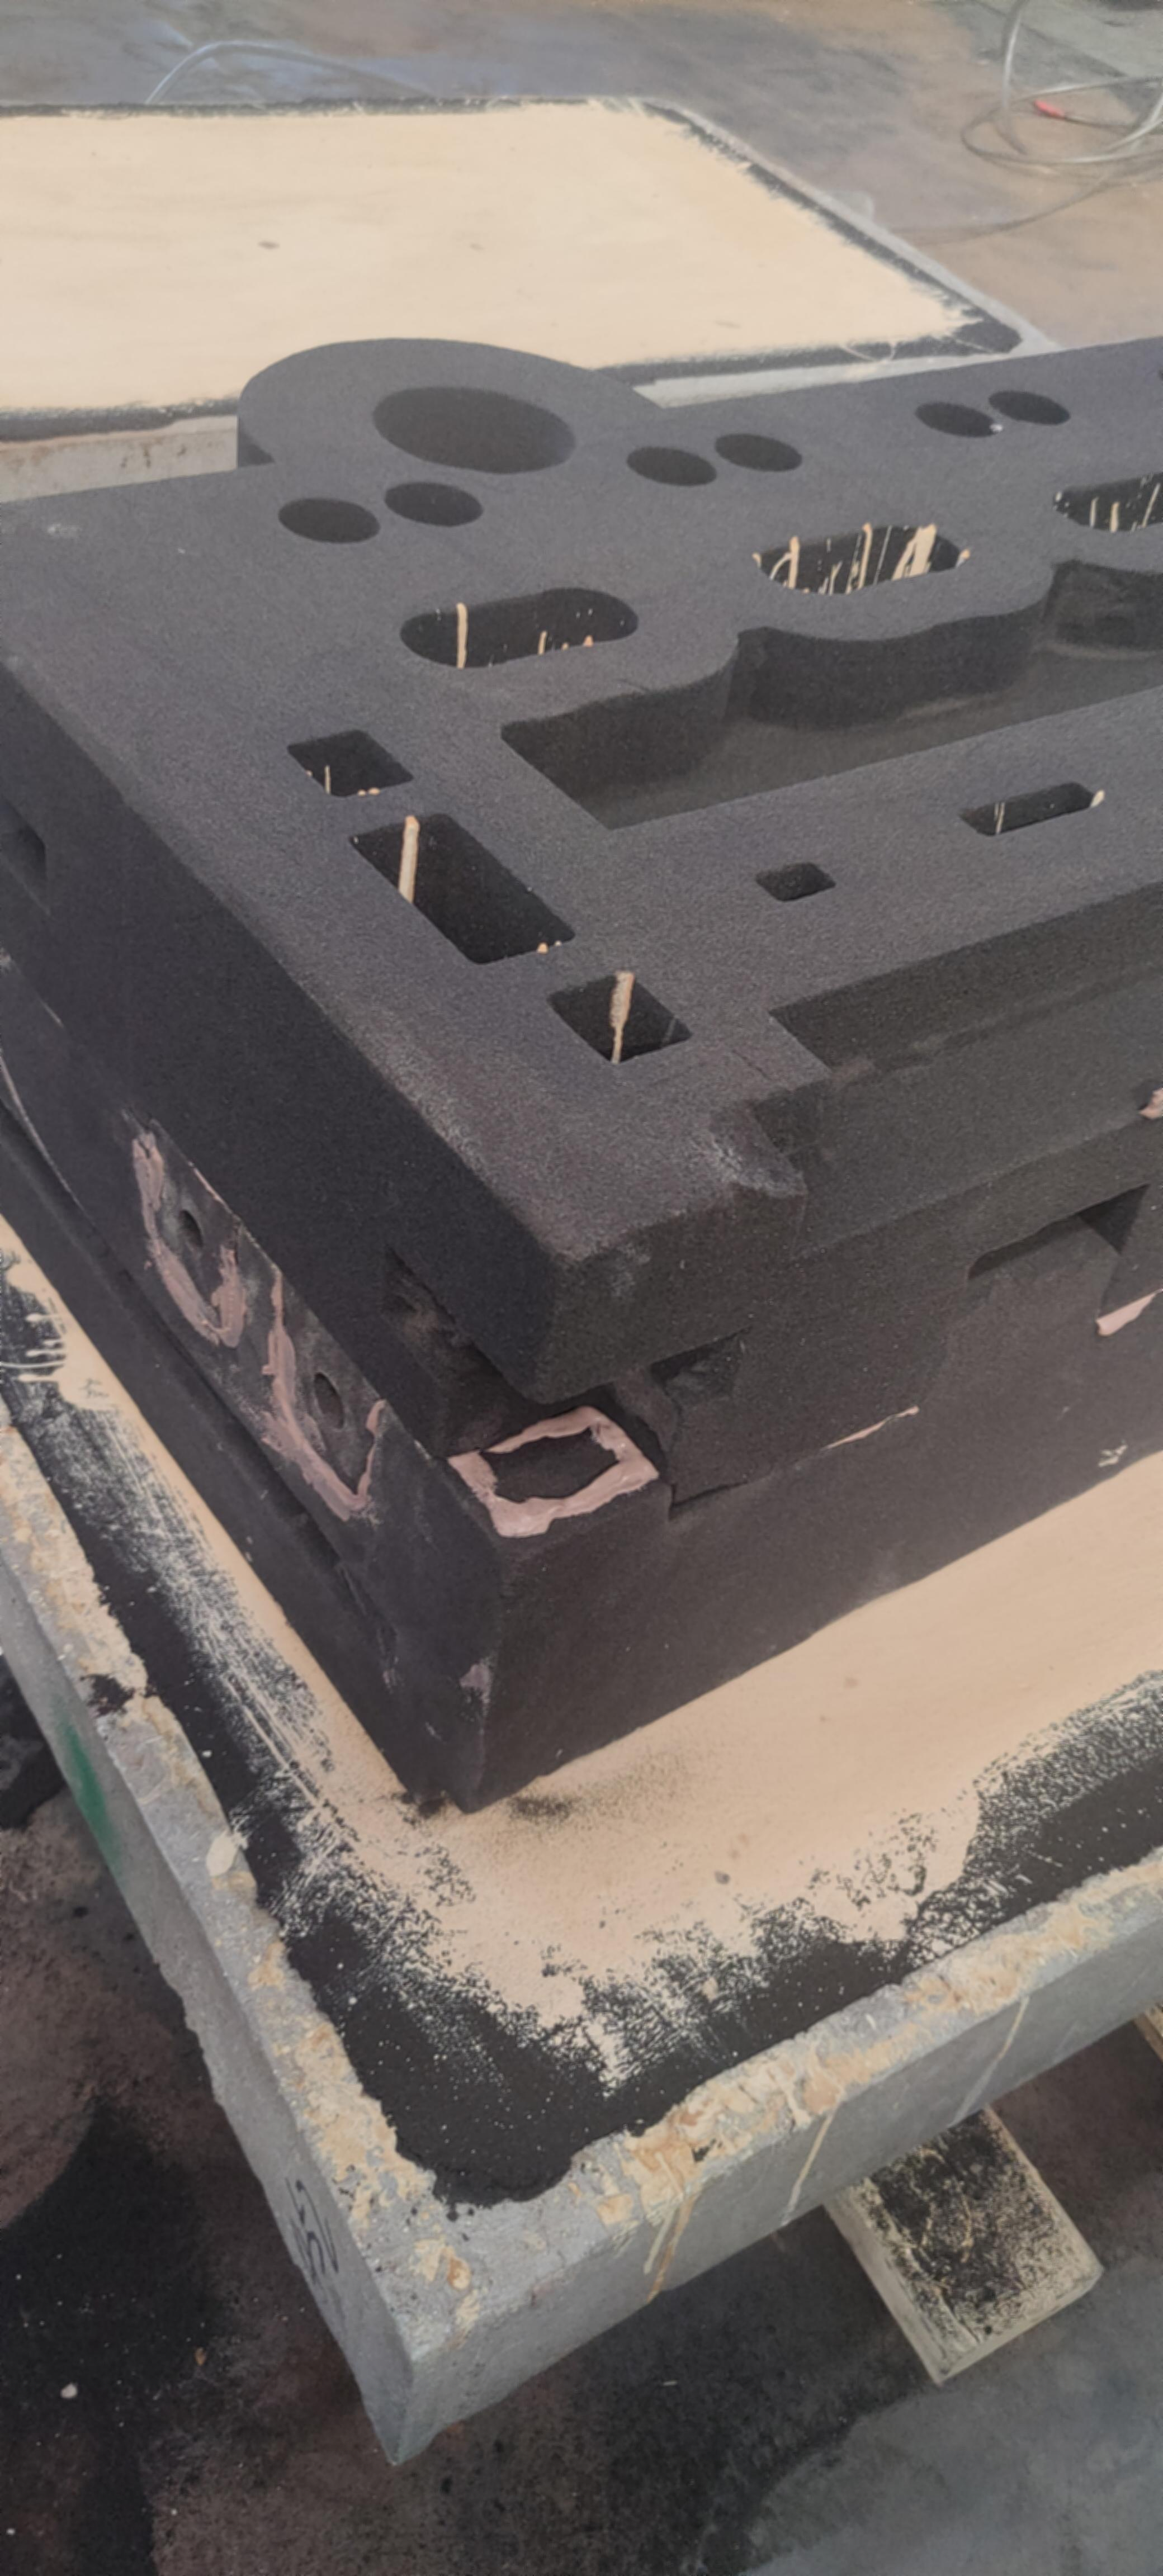pouring hole: (370, 384, 578, 478)
